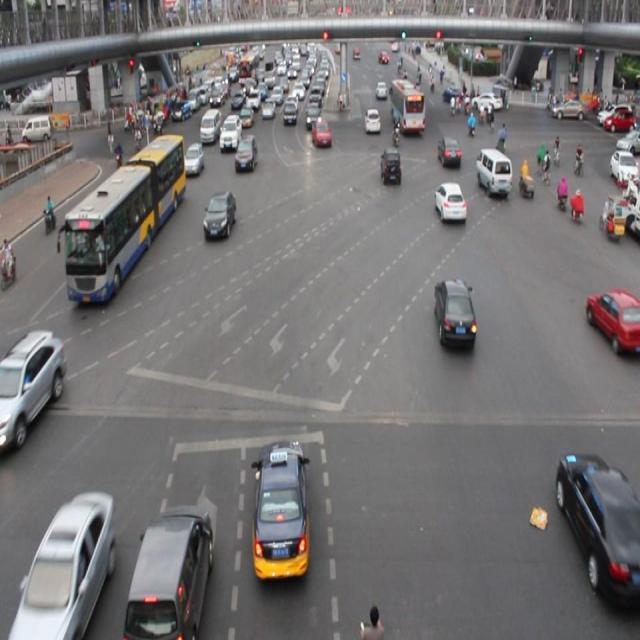car: (12, 490, 112, 640), (558, 453, 640, 607), (250, 440, 312, 580), (1, 329, 61, 456), (586, 280, 640, 351), (434, 276, 476, 353), (203, 192, 236, 242), (434, 181, 466, 222), (379, 145, 402, 186), (234, 134, 257, 174), (219, 112, 242, 152), (436, 134, 461, 169), (309, 115, 333, 150), (184, 141, 204, 179), (362, 107, 380, 136)
truck: (133, 502, 209, 640), (475, 147, 512, 198), (199, 106, 219, 146)
van: (66, 135, 180, 302), (390, 79, 425, 133)
